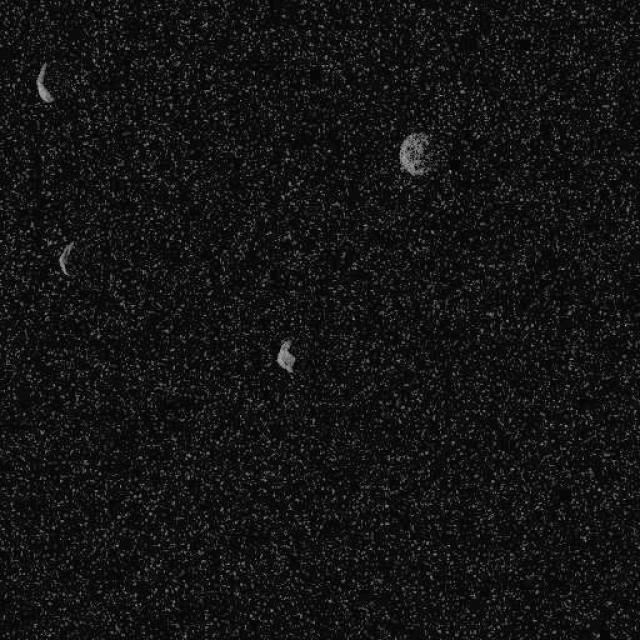D2: (396, 130, 435, 176), (35, 60, 55, 104), (56, 239, 76, 276), (275, 338, 296, 373)
